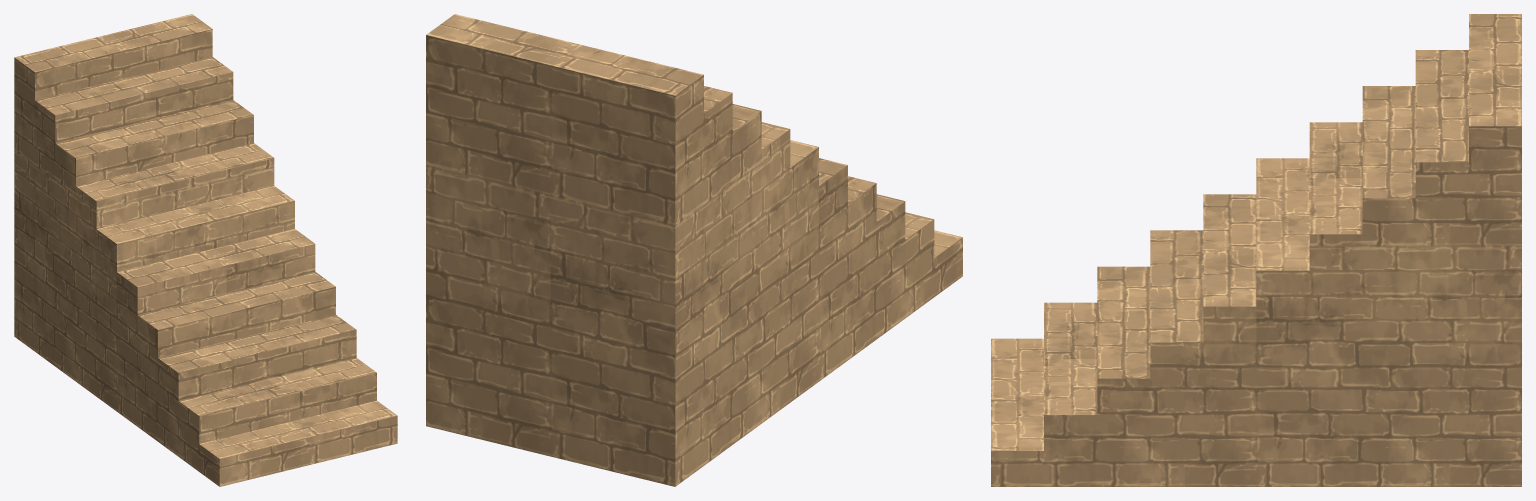
Rendered from stairs_2x4.gltf.
3 renders of one model, left to right at view 1: azimuth 30°, elevation 25°; view 2: azimuth 150°, elevation 25°; view 3: azimuth 270°, elevation 25°, orthographic. The views are drawn at different scales.
Visible parts, largest first — view 1: stairs_2x4; view 2: stairs_2x4; view 3: stairs_2x4.
Boxes of the visible parts, <box> form: stairs_2x4: <box>14,14,397,486</box>; stairs_2x4: <box>426,14,962,486</box>; stairs_2x4: <box>991,14,1521,486</box>.
Bounding box in the file's own units: 2 × 3 × 4.
Materials: 1 (1 with a texture image).
